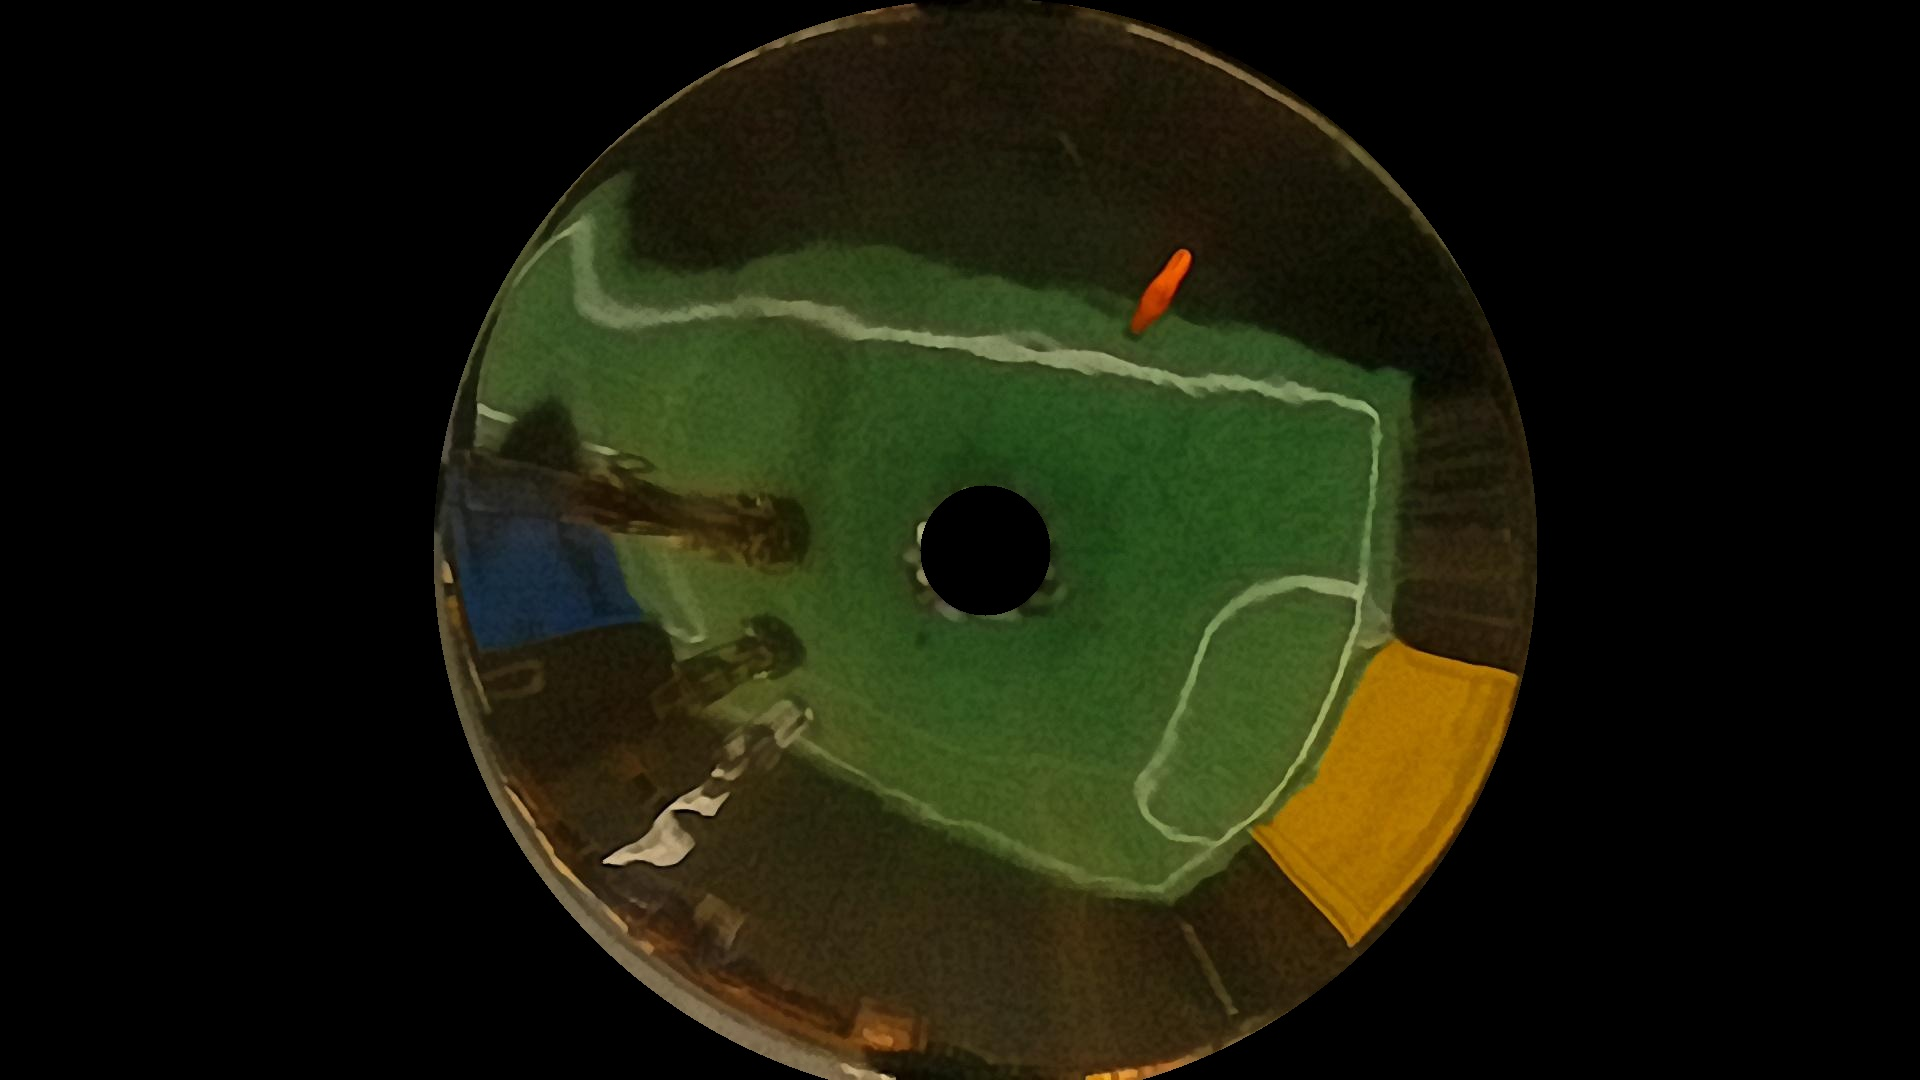ball: (1127, 249, 1199, 329)
blue-goal: (449, 503, 651, 632)
robots: (671, 699, 812, 856), (605, 489, 808, 562), (505, 417, 644, 485), (691, 623, 798, 682)
yellow-goal: (1253, 641, 1521, 948)
